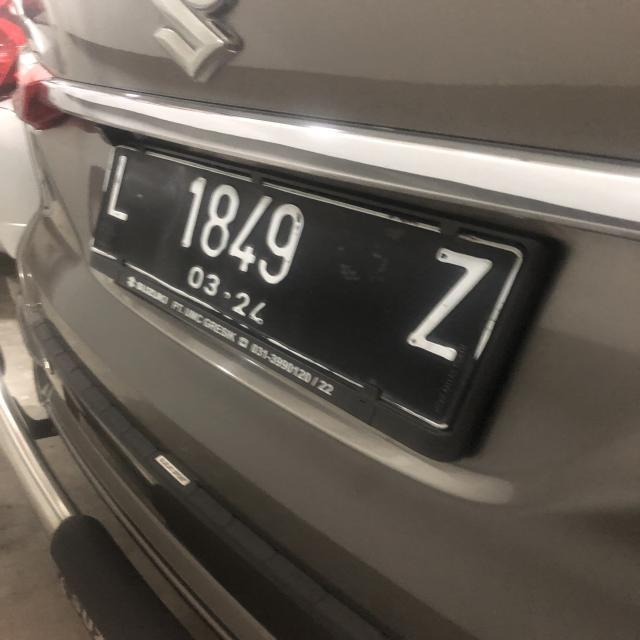1: (177, 178, 210, 245)
4: (233, 192, 269, 278)
8: (198, 180, 244, 264)
9: (257, 198, 310, 288)
L: (105, 152, 142, 222)
Z: (402, 244, 495, 364)
